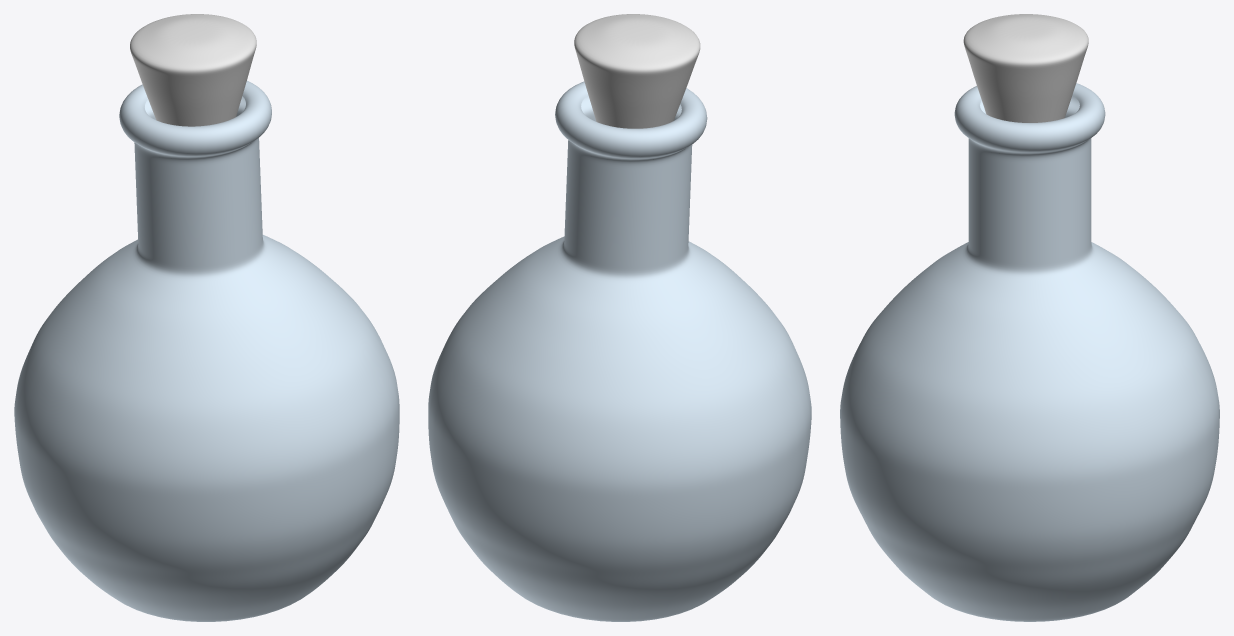
File: HealthPotion.fbx
3 views of the same model, side by side, from view 1: azimuth 30°, elevation 25°; view 2: azimuth 150°, elevation 25°; view 3: azimuth 270°, elevation 25° (orthographic).
Parts seen in each view (by area): view 1: Vert, Cylinder; view 2: Vert, Cylinder; view 3: Vert, Cylinder.
Part boxes in pixels (box(x1,y1,x2,y2)): Vert: box(14, 80, 399, 621); Cylinder: box(130, 14, 256, 126); Vert: box(428, 81, 811, 621); Cylinder: box(574, 14, 700, 128); Vert: box(840, 83, 1219, 621); Cylinder: box(963, 14, 1088, 122).
Bounding box in the file's own units: 144 × 230 × 144.
